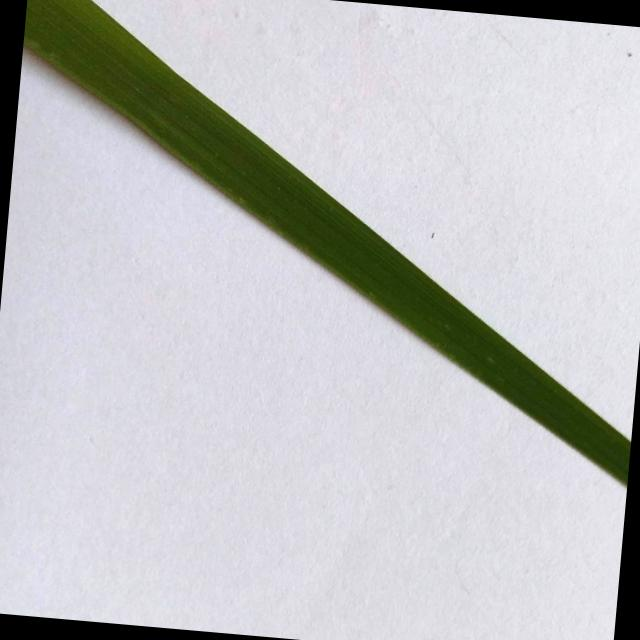Rice_Healthy: (23, 0, 630, 485)
